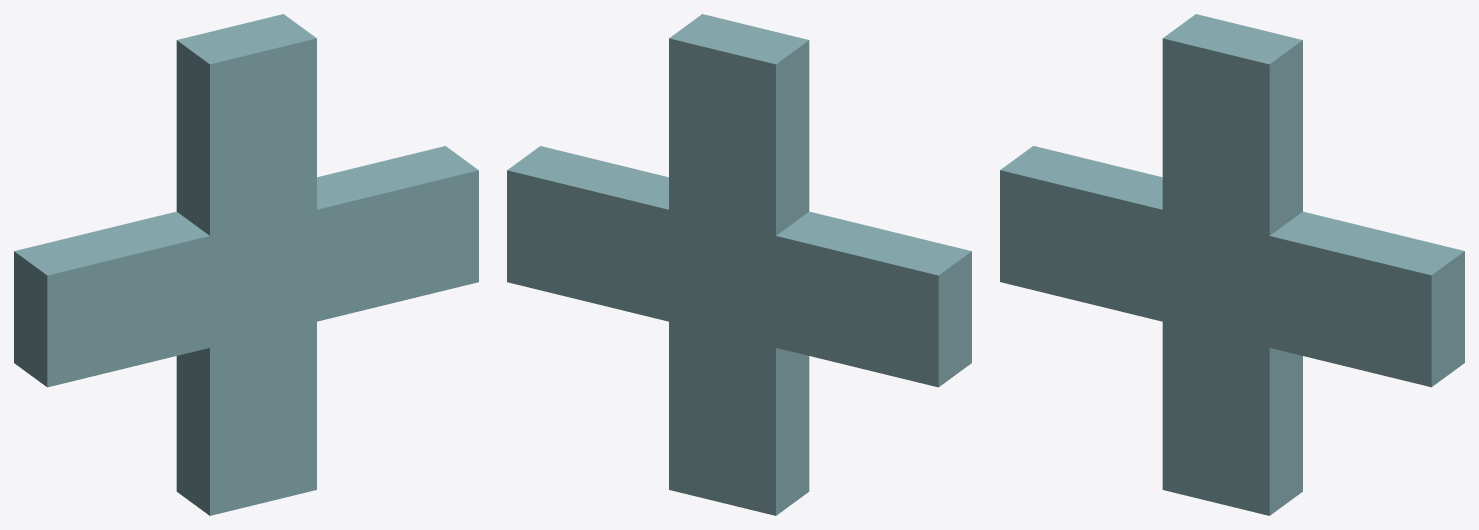
File: Plus sign.fbx
3 views of the same model, side by side, from view 1: azimuth 30°, elevation 25°; view 2: azimuth 150°, elevation 25°; view 3: azimuth 330°, elevation 25° (orthographic).
Visible parts, largest first — view 1: pPlane4; view 2: pPlane4; view 3: pPlane4.
Part boxes in pixels (x1,y1,x2,y2): pPlane4: [14, 14, 478, 515]; pPlane4: [507, 14, 971, 515]; pPlane4: [1000, 14, 1464, 515].
Bounding box in the file's own units: 4.03 × 4.03 × 0.5392.
